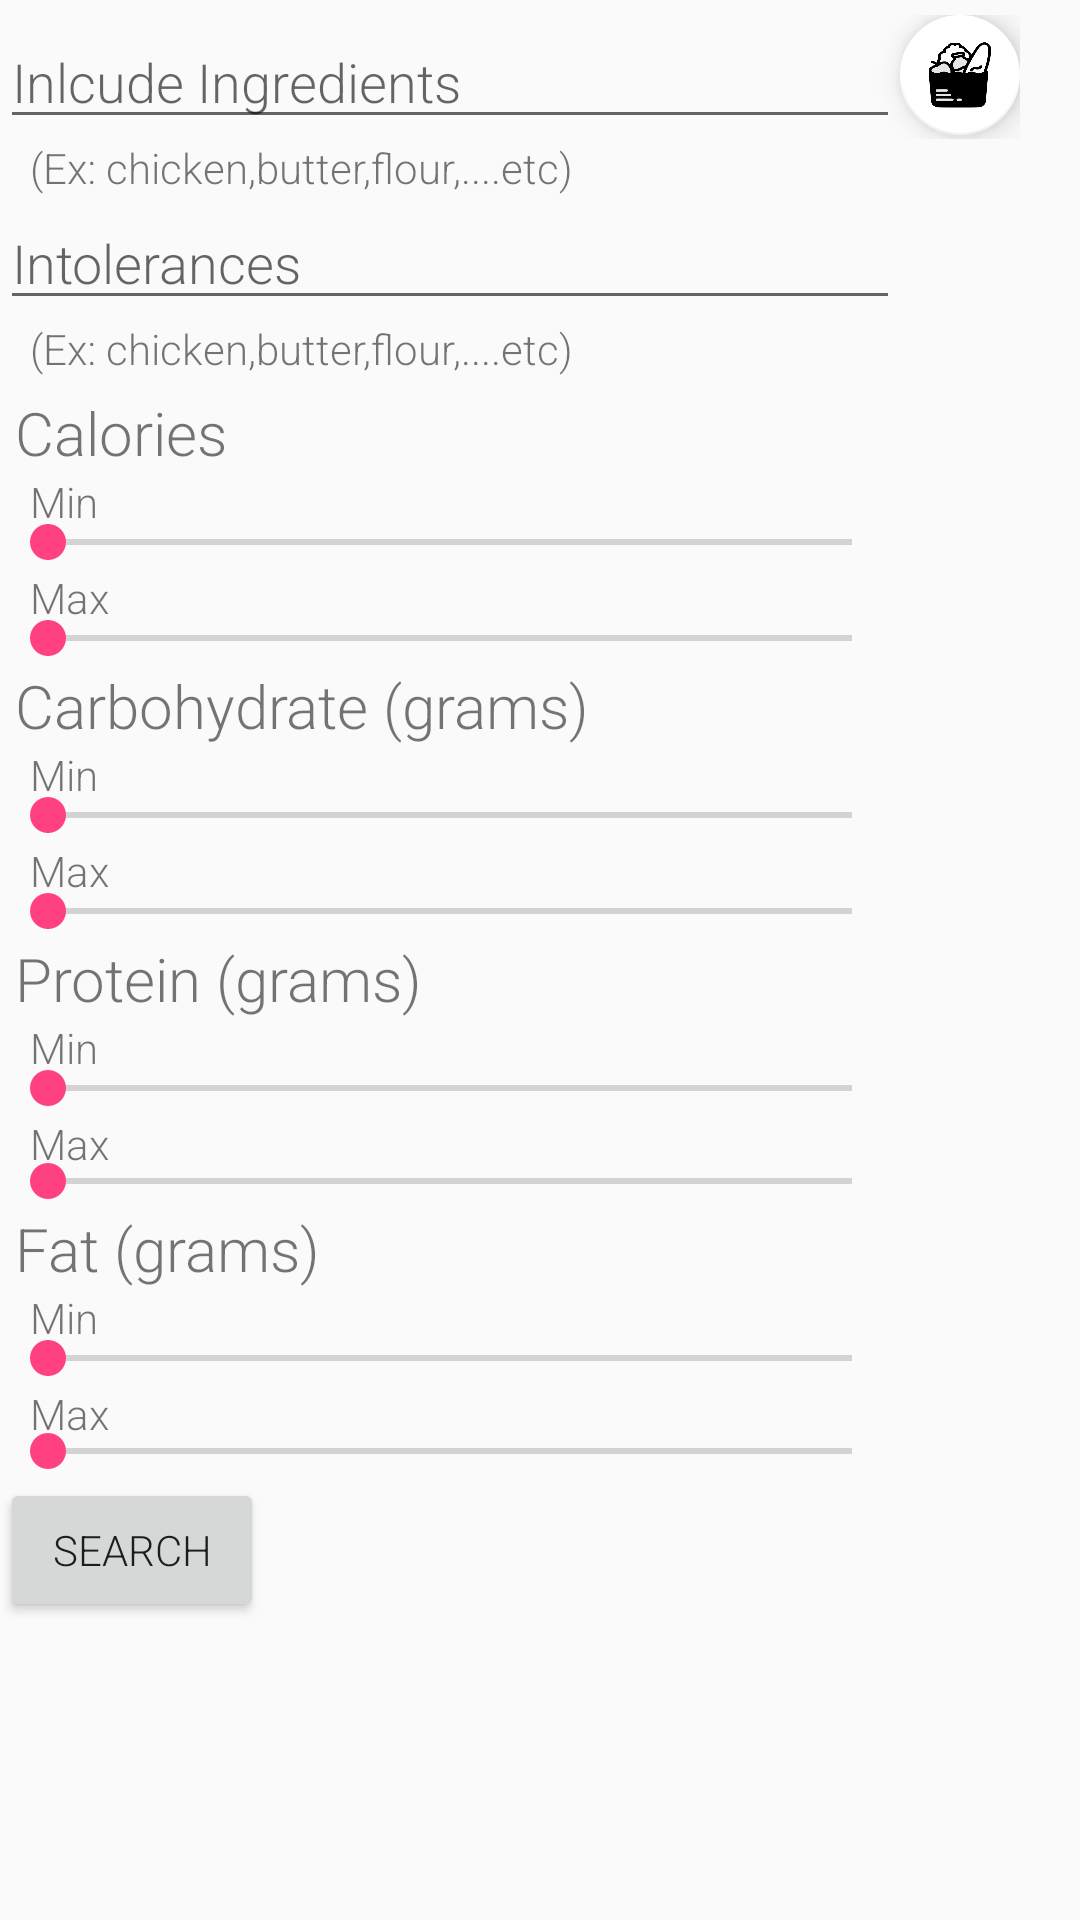

Named icons in this screenshot (1080px×1920px) and their centers, [x,y]:
grocery bag: [960,75]
